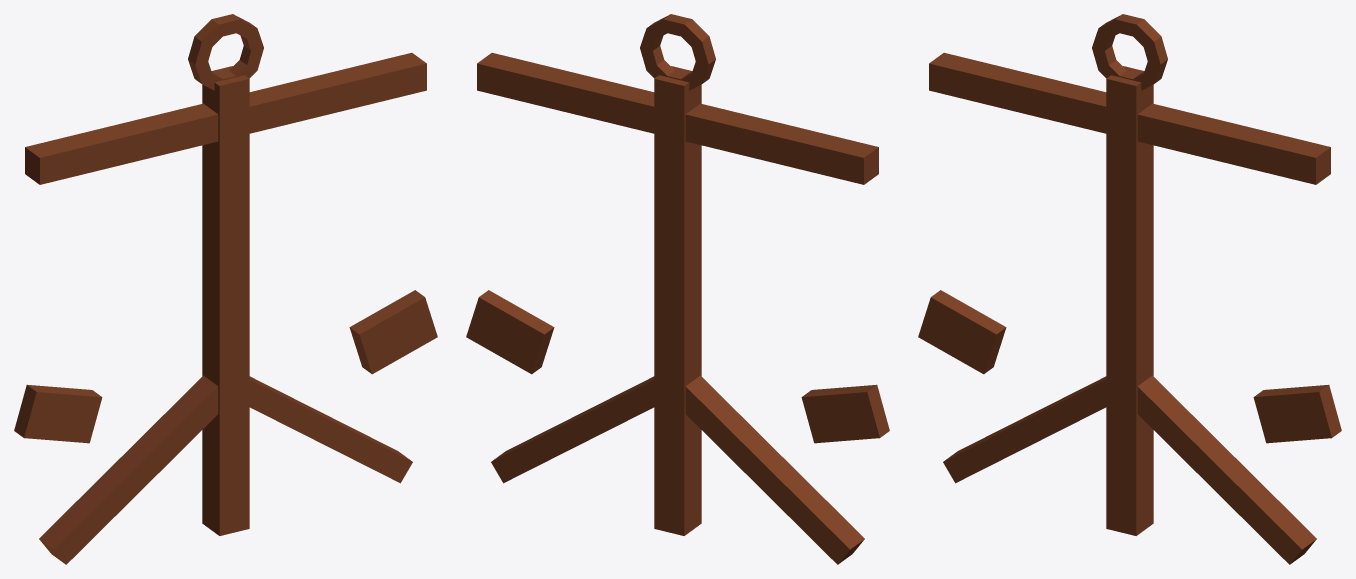
The model's file is hb_anchor.glb.
3 views of the same model, side by side, from view 1: azimuth 30°, elevation 25°; view 2: azimuth 150°, elevation 25°; view 3: azimuth 330°, elevation 25° (orthographic).
Visible parts, largest first — view 1: hb_anchor; view 2: hb_anchor; view 3: hb_anchor.
Part boxes in pixels (left/top/right/bottom): hb_anchor: left=14, top=14, right=437, bottom=564; hb_anchor: left=466, top=14, right=889, bottom=564; hb_anchor: left=918, top=14, right=1341, bottom=564.
Bounding box in the file's own units: 1.92 × 2.25 × 0.1399.
